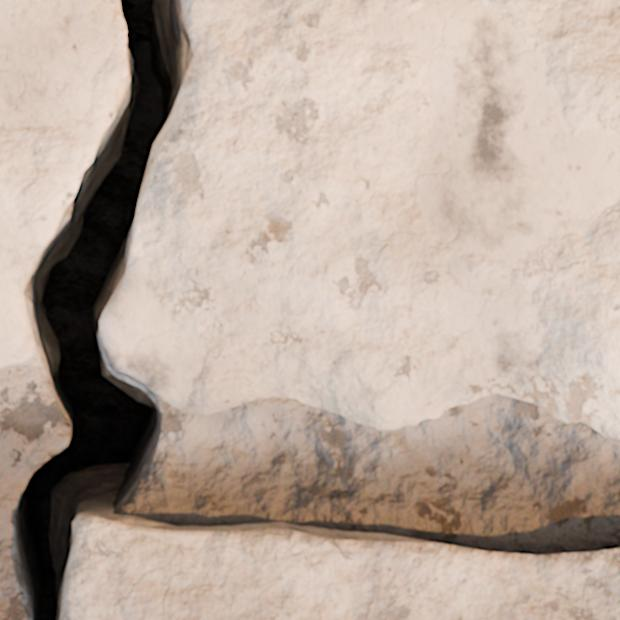brick: (62, 515, 619, 619)
broken_brick: (101, 0, 619, 440), (0, 0, 125, 369)
crack: (1, 0, 192, 619)
